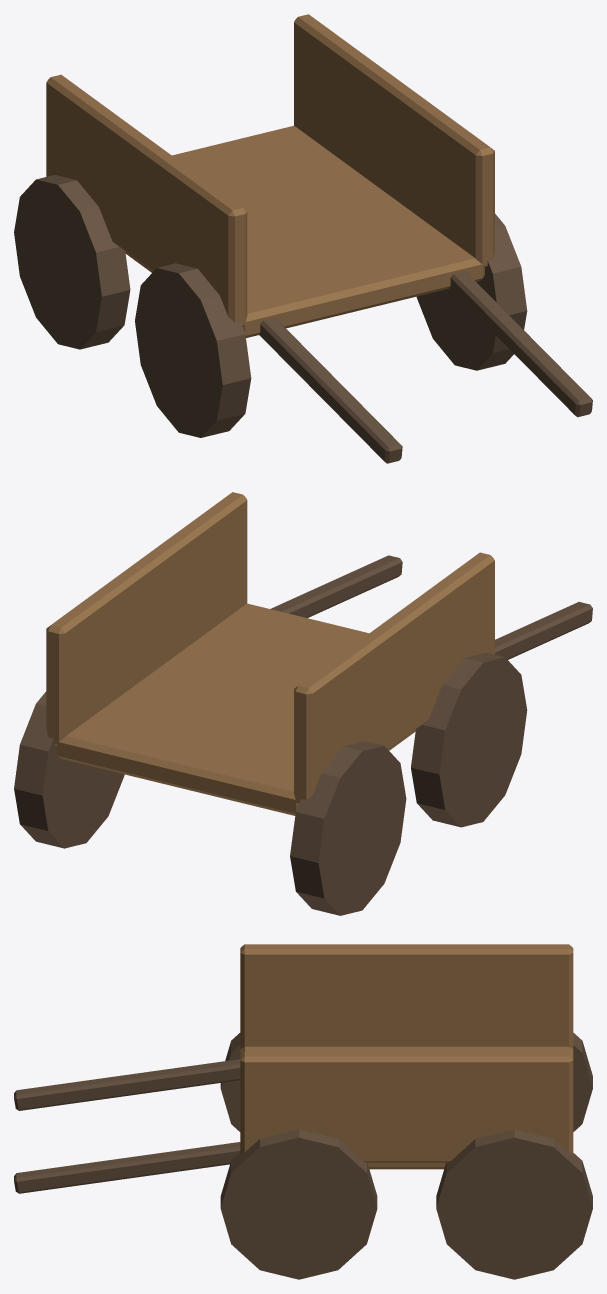
File: vehicles-wagon.lod0.glb
The picture shows the model from 3 angles, top to bottom: view 1: azimuth 30°, elevation 25°; view 2: azimuth 150°, elevation 25°; view 3: azimuth 270°, elevation 25°; orthographic projection. The views are drawn at different scales.
Parts seen in each view (by area): view 1: vehicles-wagon__body; view 2: vehicles-wagon__body; view 3: vehicles-wagon__body.
Part boxes in pixels (left/top/right/bottom): vehicles-wagon__body: left=14, top=14, right=592, bottom=463; vehicles-wagon__body: left=14, top=492, right=592, bottom=915; vehicles-wagon__body: left=14, top=944, right=592, bottom=1279.
Bounding box in the file's own units: 1.6 × 1.2 × 2.95.
